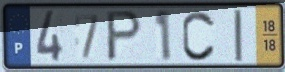1: (153, 8, 173, 64)
4: (34, 8, 65, 64)
7: (72, 13, 100, 60)
C: (181, 9, 218, 63)
I: (232, 8, 245, 64)
P: (105, 8, 144, 64)
